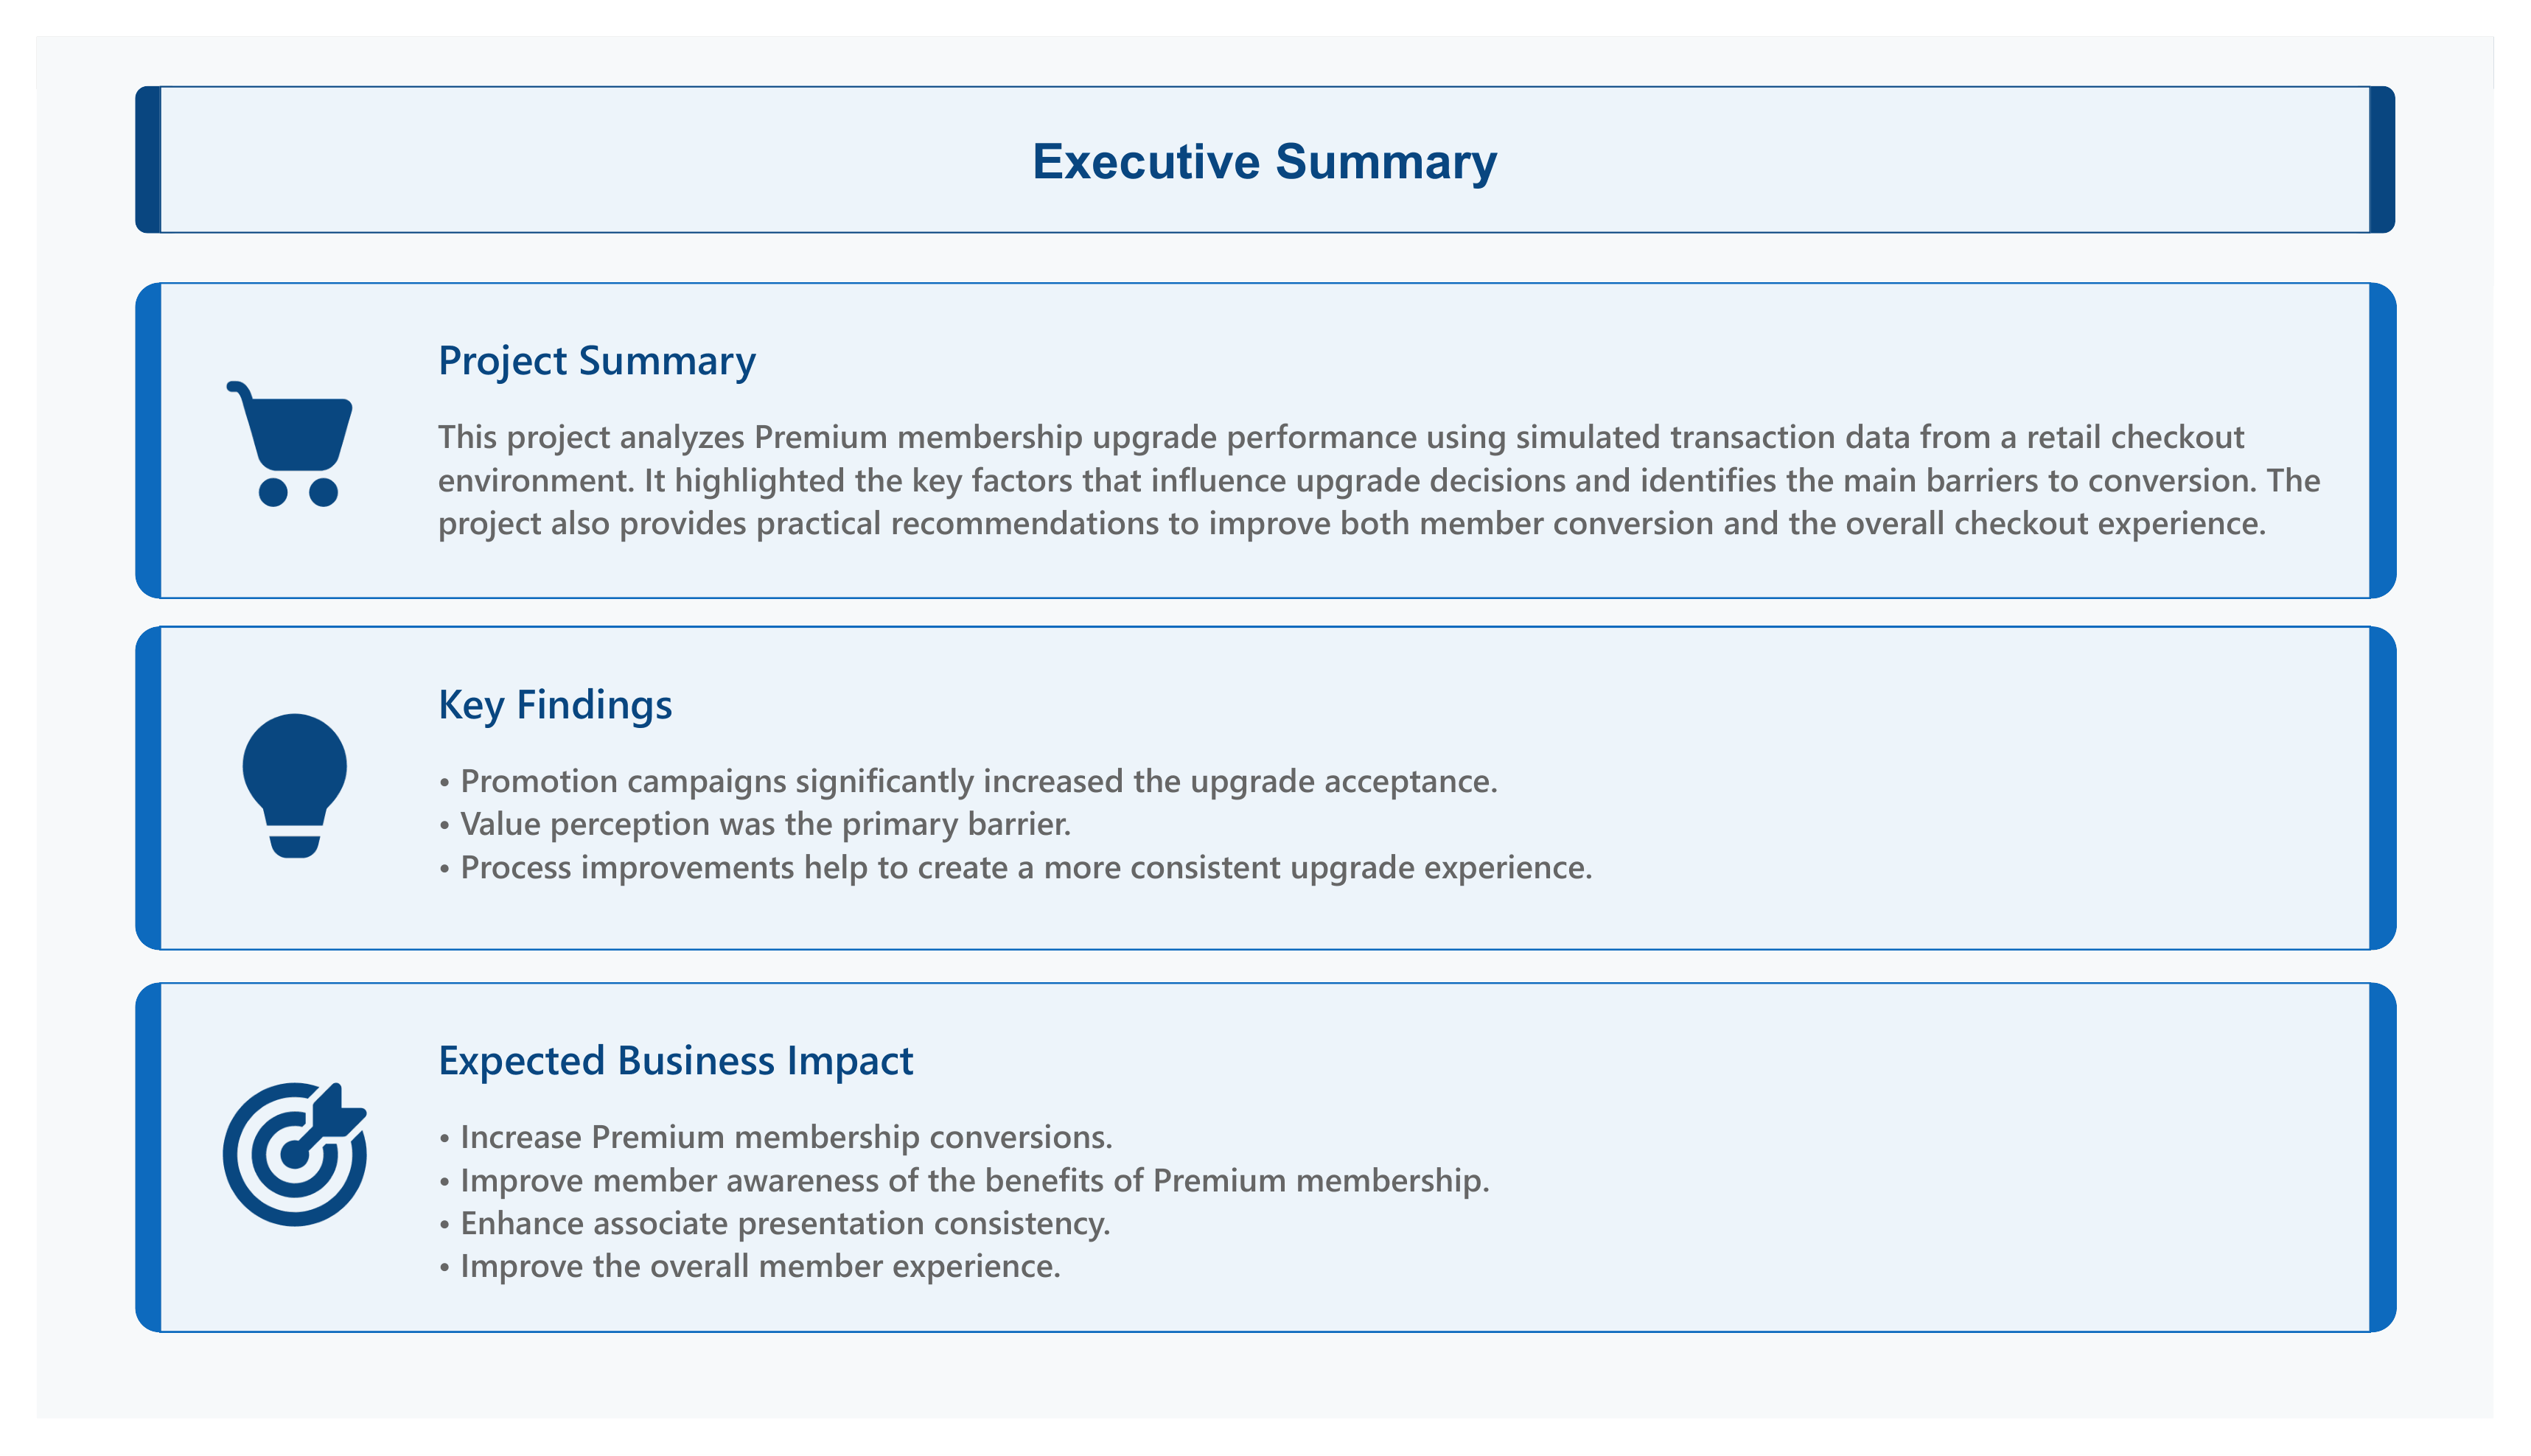

The page's visual inventory and layout, read from the dashboard file:
{"tool":"powerbi","page":{"name":"Executive Summary","canvas":[1600,900],"ordinal":3},"visuals":[{"type":"shape","box":[64,32,32,96],"z":0},{"type":"shape","box":[1472.3,160,64,206.2],"z":0,"group":"g1"},{"type":"shape","box":[1472.3,383.8,64,211.2],"z":0,"group":"g2"},{"type":"shape","box":[1472.3,616.2,64,227.5],"z":0,"group":"g3"},{"type":"shape","box":[1504,32,32,96],"z":1000},{"type":"shape","box":[63.8,160,64,206.2],"z":1000,"group":"g1"},{"type":"shape","box":[63.8,383.8,64,211.2],"z":1000,"group":"g2"},{"type":"shape","box":[63.8,616.2,64,227.5],"z":1000,"group":"g3"},{"type":"textbox","box":[80,32,1440,96],"z":2000},{"type":"shape","box":[79.8,160,1440.5,206.2],"z":2000,"group":"g1"},{"type":"shape","box":[79.8,383.8,1440.5,211.2],"z":2000,"group":"g2"},{"type":"shape","box":[79.8,616.2,1440.5,227.5],"z":2000,"group":"g3"},{"type":"group","id":"g1","title":"Group 1","box":[63.8,160,1472.5,208],"z":3000},{"type":"group","id":"g2","title":"Group 1","box":[63.8,383.8,1472.5,211.2],"z":4000},{"type":"textbox","box":[255.8,176,1264,64],"z":5000,"group":"g1"},{"type":"textbox","box":[255.8,399.8,1264,80],"z":5000,"group":"g2"},{"type":"group","id":"g3","title":"Group 1","box":[63.8,616.2,1472.5,227.5],"z":5000},{"type":"textbox","box":[255.8,632.2,1264,80],"z":5000,"group":"g3"},{"type":"image","box":[112,208,112,112],"z":6000},{"type":"textbox","box":[255.8,240,1264,128],"z":7000,"group":"g1"},{"type":"image","box":[112,432,112,112],"z":7000},{"type":"textbox","box":[255.8,463.8,1264,128],"z":7000,"group":"g2"},{"type":"textbox","box":[255.8,696.2,1264,144],"z":7000,"group":"g3"},{"type":"image","box":[112,672,112,112],"z":8000}]}

Visuals, with their boxes on the page's 1600x900 design canvas (x1, y1, x2, y2). These are canvas units, not pixel positions in the 2531x1456 screenshot, which may show the page scaled, cropped or inside an application window:
shape: [64, 32, 96, 128]
shape: [1472, 160, 1536, 366]
shape: [1472, 384, 1536, 595]
shape: [1472, 616, 1536, 844]
shape: [1504, 32, 1536, 128]
shape: [64, 160, 128, 366]
shape: [64, 384, 128, 595]
shape: [64, 616, 128, 844]
textbox: [80, 32, 1520, 128]
shape: [80, 160, 1520, 366]
shape: [80, 384, 1520, 595]
shape: [80, 616, 1520, 844]
"Group 1" group: [64, 160, 1536, 368]
"Group 1" group: [64, 384, 1536, 595]
textbox: [256, 176, 1520, 240]
textbox: [256, 400, 1520, 480]
"Group 1" group: [64, 616, 1536, 844]
textbox: [256, 632, 1520, 712]
image: [112, 208, 224, 320]
textbox: [256, 240, 1520, 368]
image: [112, 432, 224, 544]
textbox: [256, 464, 1520, 592]
textbox: [256, 696, 1520, 840]
image: [112, 672, 224, 784]
